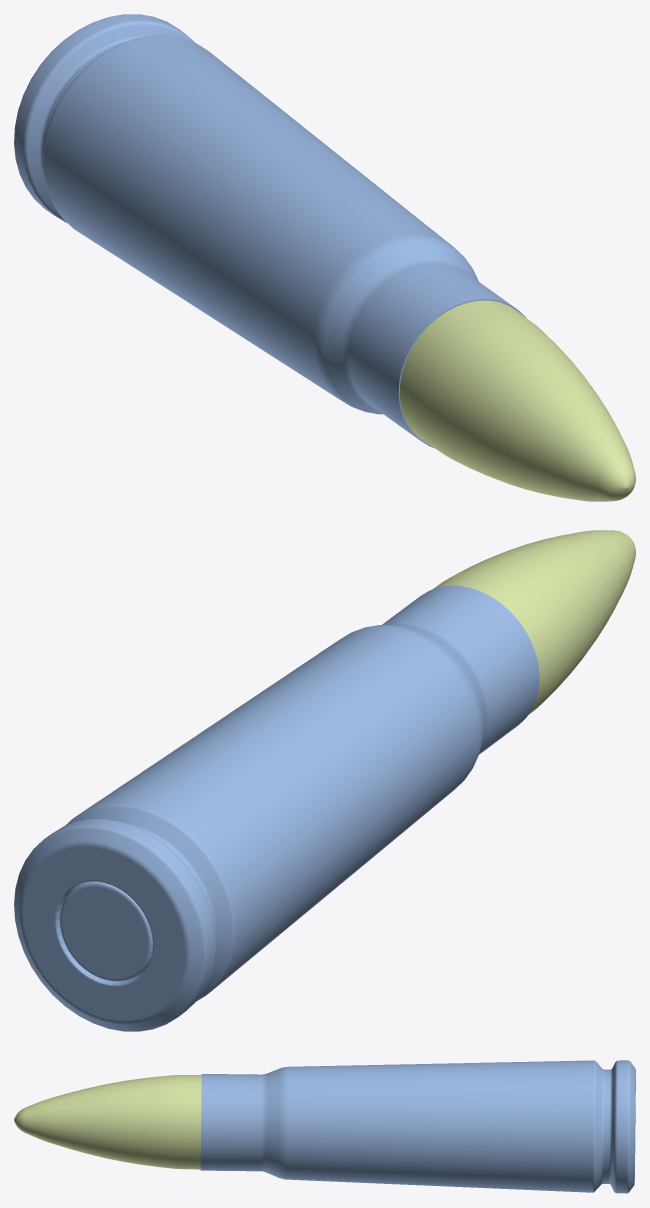
File: bullet.obj
3 renders of one model, top to bottom at view 1: azimuth 30°, elevation 25°; view 2: azimuth 150°, elevation 25°; view 3: azimuth 270°, elevation 25°, orthographic. The views are drawn at different scales.
Parts seen in each view (by area): view 1: Line062 Mesh, Line061 Mesh; view 2: Line062 Mesh, Line061 Mesh; view 3: Line062 Mesh, Line061 Mesh.
Part boxes in pixels (left/top/right/bottom): Line062 Mesh: left=14, top=14, right=525, bottom=447; Line061 Mesh: left=399, top=300, right=635, bottom=501; Line062 Mesh: left=14, top=585, right=539, bottom=1031; Line061 Mesh: left=432, top=530, right=635, bottom=714; Line062 Mesh: left=200, top=1060, right=635, bottom=1193; Line061 Mesh: left=14, top=1075, right=201, bottom=1169.
Bounding box in the file's own units: 4.66 × 4.66 × 21.76.
